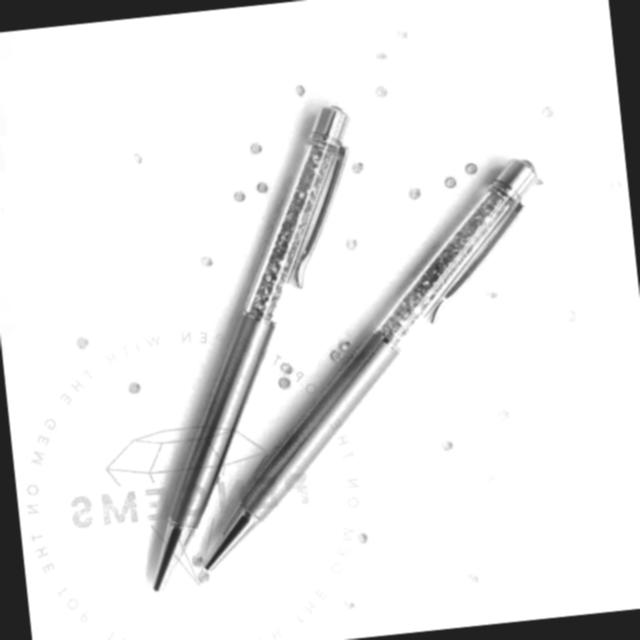Pen: (170, 160, 538, 587), (154, 106, 348, 591)
